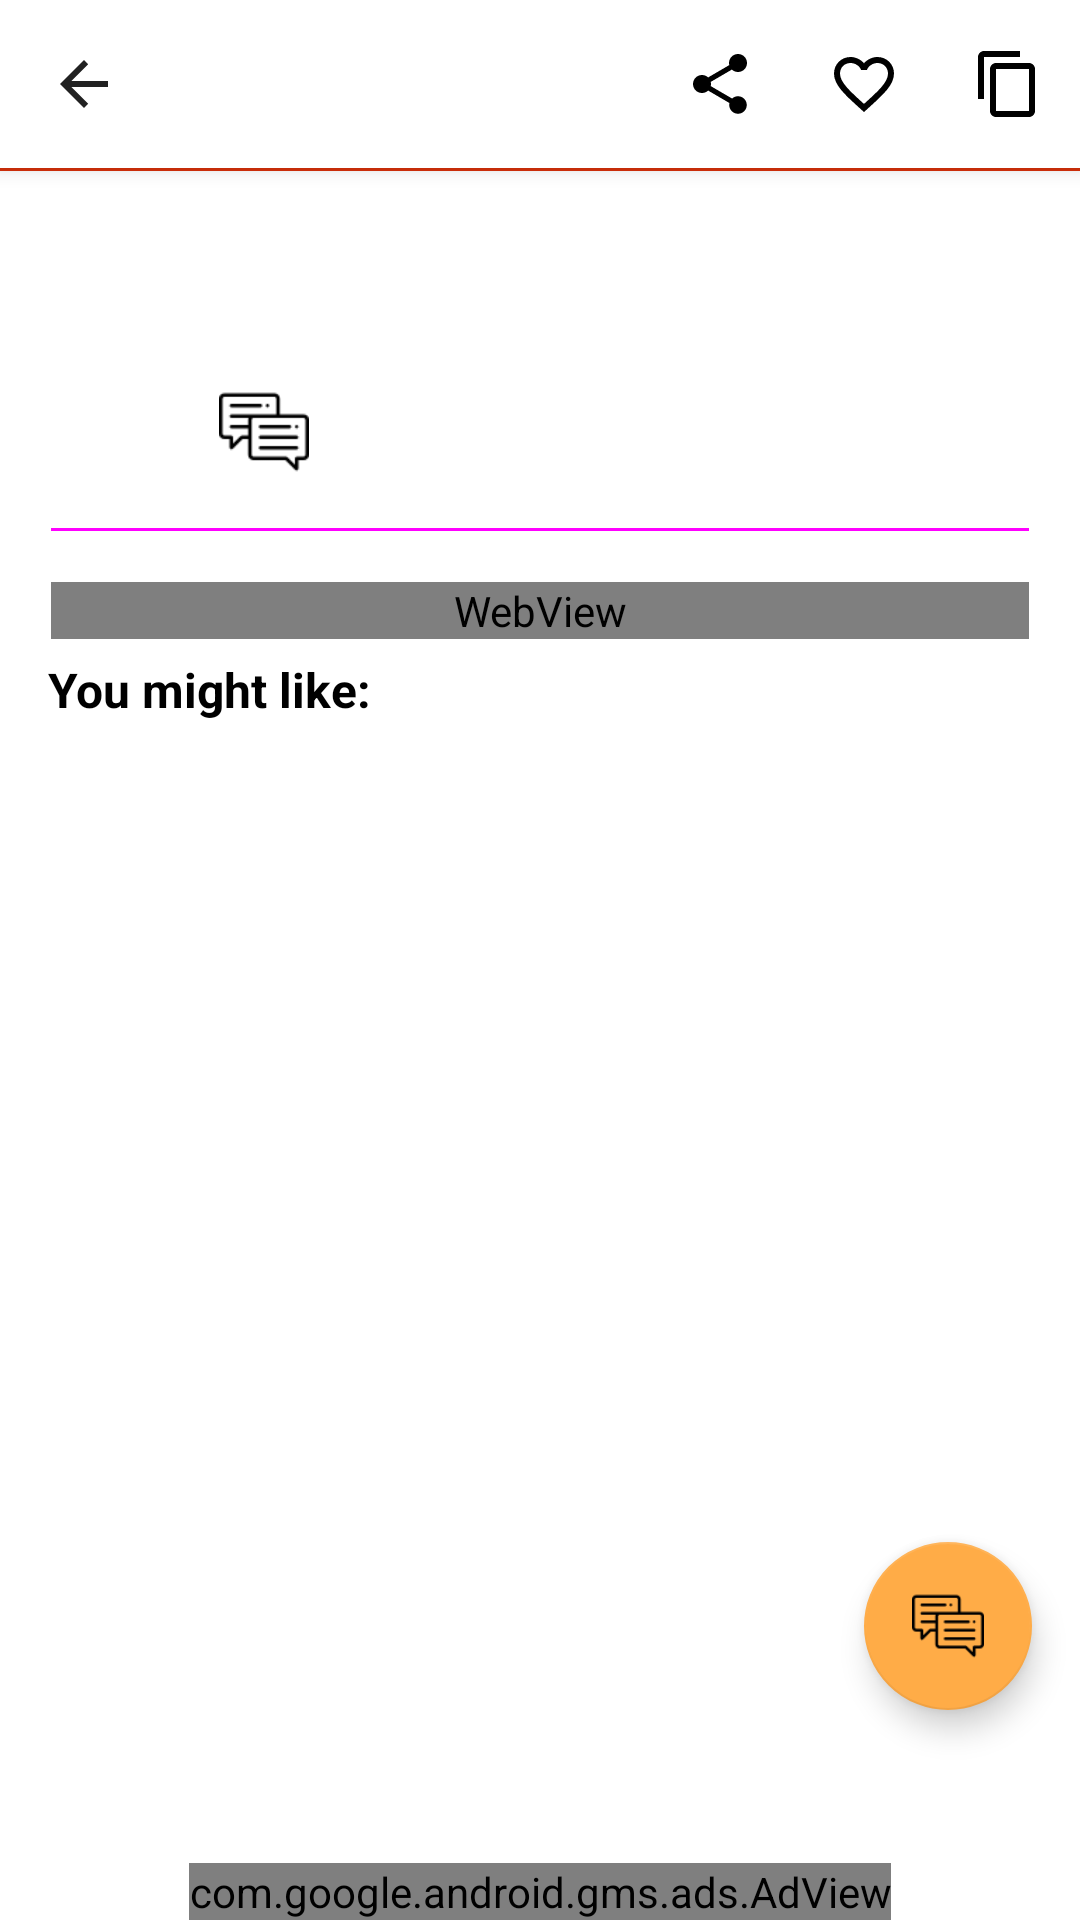

Icon bounding boxes for this 1080px×1920px phone screenshot, format (x1, y1, x2, y2):
comment: (219, 392, 309, 471), (864, 1542, 1032, 1710)
